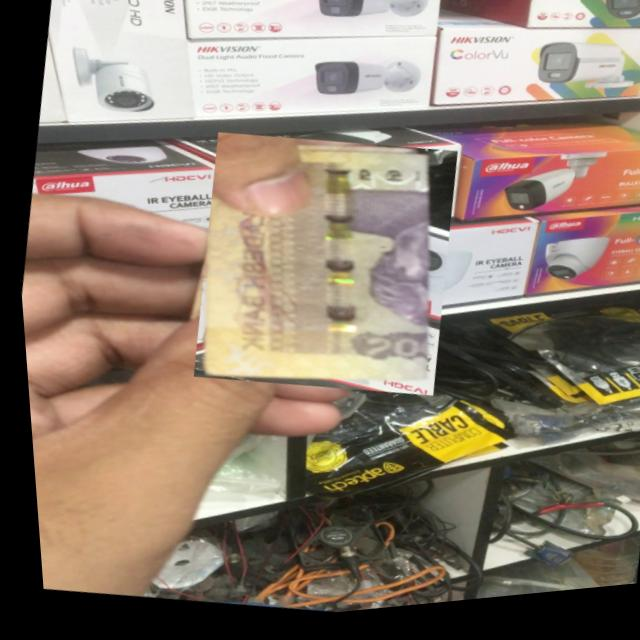Taka: (173, 118, 469, 422)
